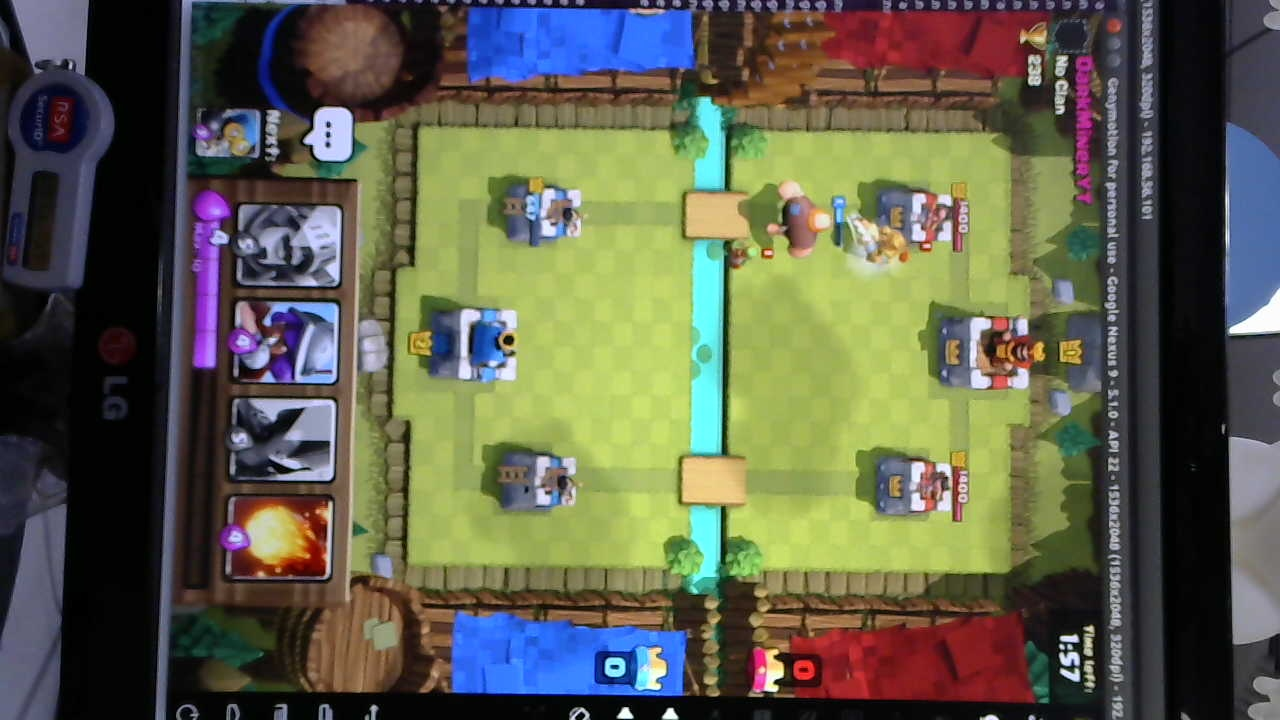arena: (498, 449, 579, 515), (501, 181, 585, 241)
earena: (875, 453, 955, 520), (884, 190, 960, 245)
eking: (929, 313, 1041, 392)
giant: (773, 179, 829, 263)
king: (425, 307, 519, 384)
prince: (849, 219, 912, 269)
speargoblin: (722, 234, 764, 273)
